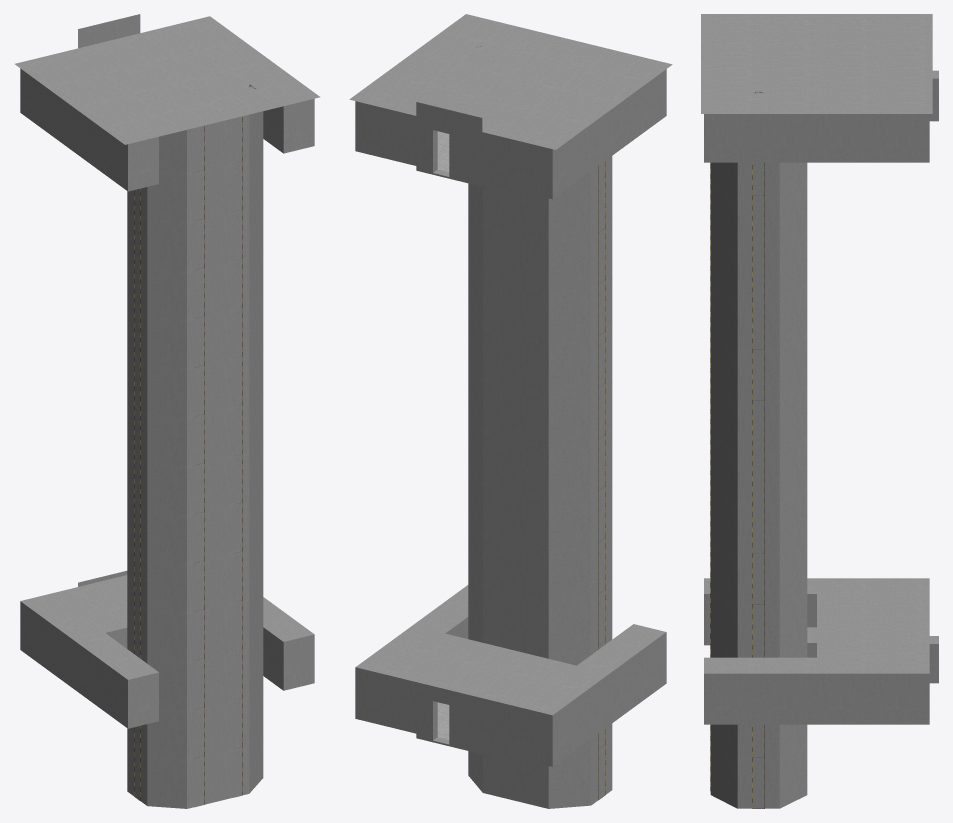
The model's file is ElevatorTube.FBX.
3 views of the same model, side by side, from view 1: azimuth 30°, elevation 25°; view 2: azimuth 150°, elevation 25°; view 3: azimuth 270°, elevation 25° (orthographic). The views are drawn at different scales.
Parts seen in each view (by area): view 1: ElevatorTube_mesh; view 2: ElevatorTube_mesh; view 3: ElevatorTube_mesh.
Part boxes in pixels (<box>): ElevatorTube_mesh: <box>15,14,320,808</box>; ElevatorTube_mesh: <box>349,14,672,808</box>; ElevatorTube_mesh: <box>701,14,938,808</box>.
Size of what is drawn, in the model's own units: 1258 by 4300 by 1266.
Materials: 5 (5 with a texture image).
